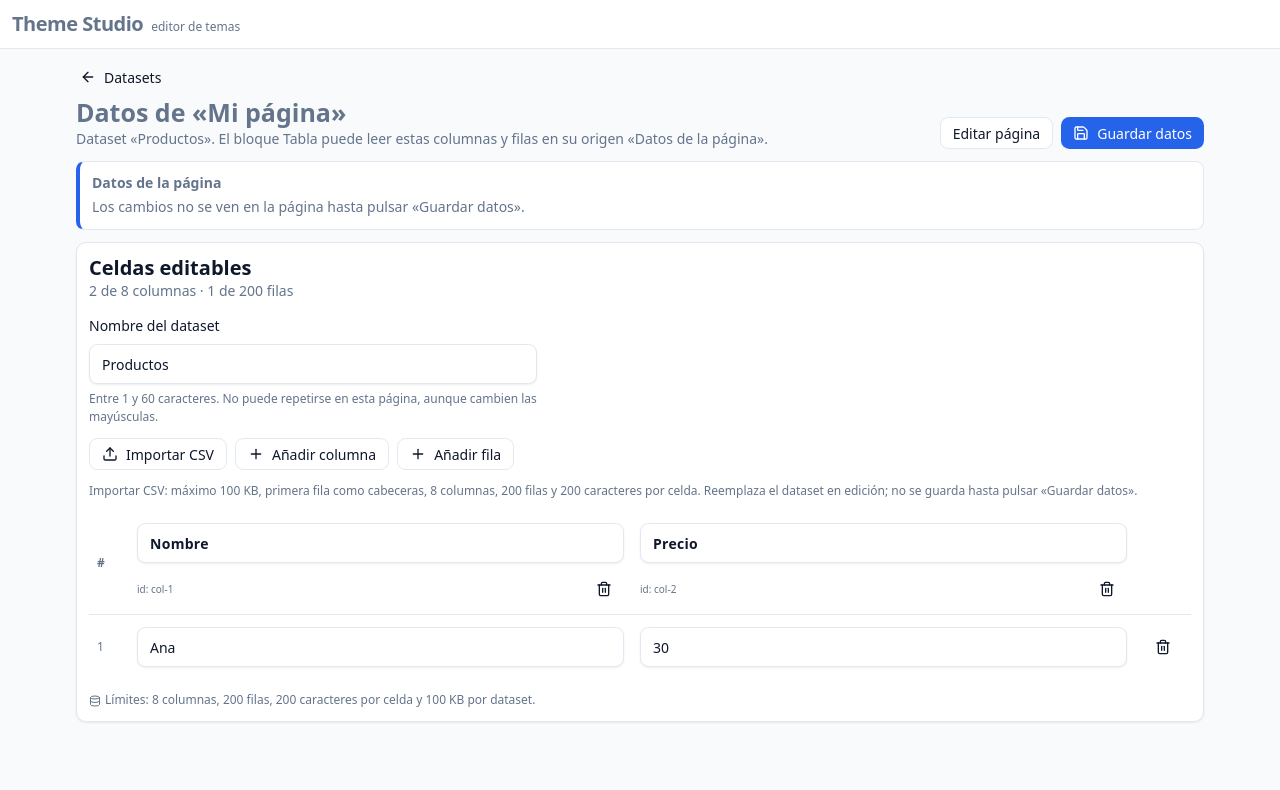
Test: DatasetPage › edita una celda, añade una fila y guarda id, datos y nombre
Replace the text in the field named "Fila 1, columna 1 (Nombre)" with "Bea": coordinates (380, 647) x1=137 y1=627 x2=624 y2=667
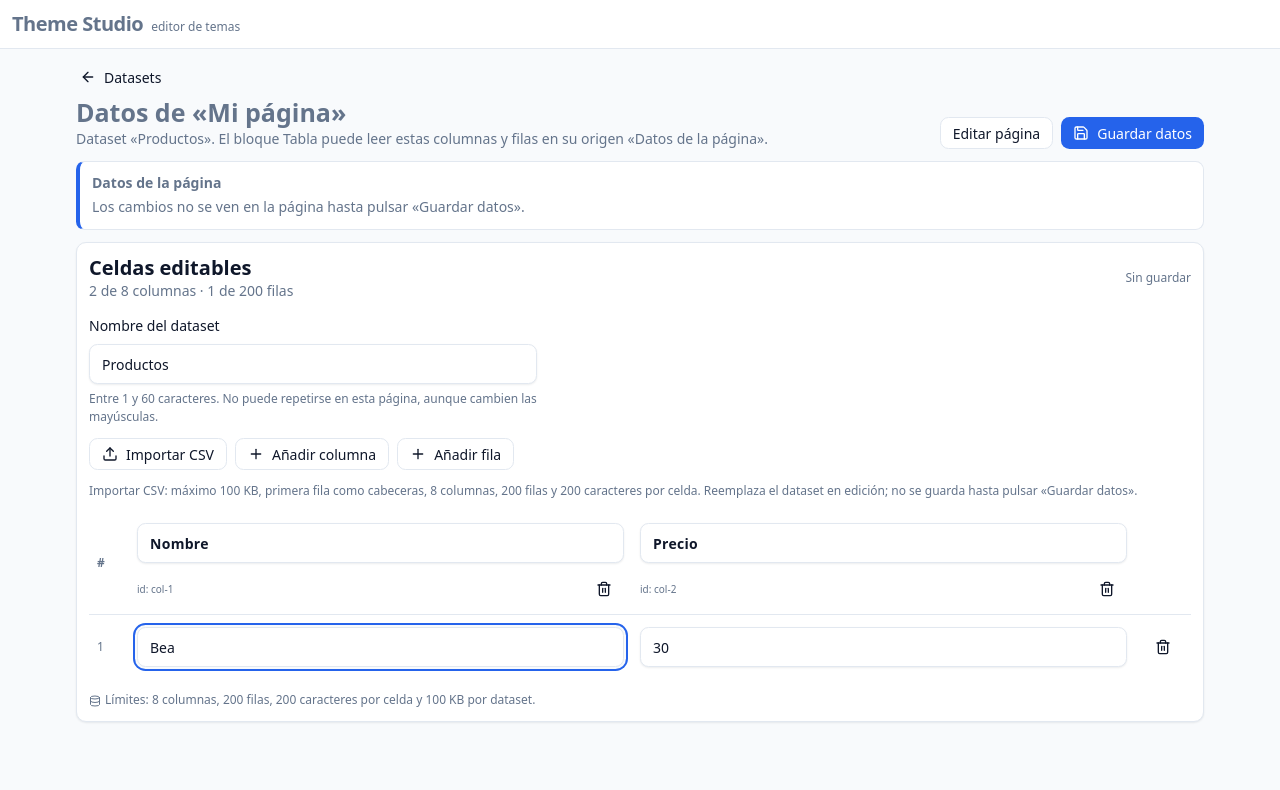
Click the button "Añadir fila": coordinates (456, 454) x1=397 y1=438 x2=514 y2=470
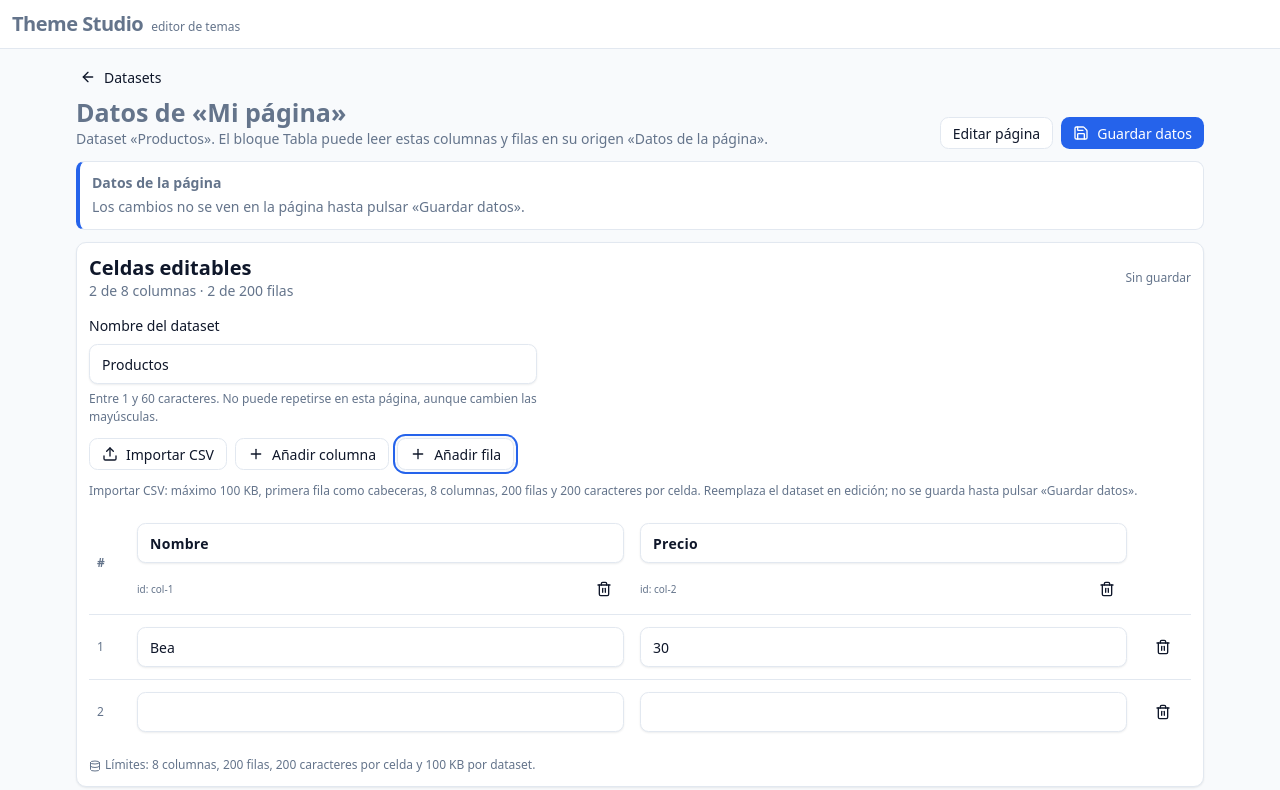
Expected: the field named "Fila 2, columna 1 (Nombre)" is empty, x1=137 y1=692 x2=624 y2=732
Click the button "Guardar datos": coordinates (1133, 133) x1=1061 y1=117 x2=1204 y2=149
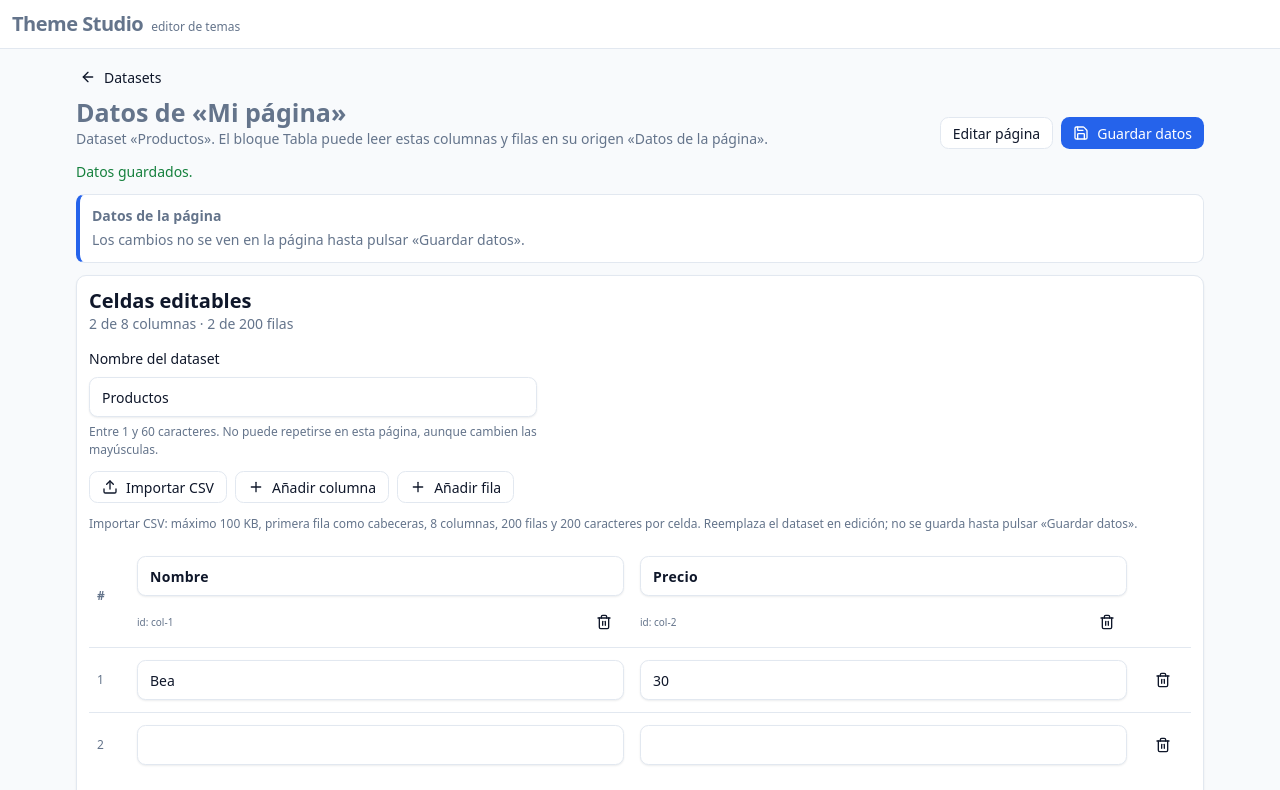
Expected: the text "Datos guardados." is shown, x1=76 y1=162 x2=193 y2=181
Expected: the text "Sin guardar" is gone
